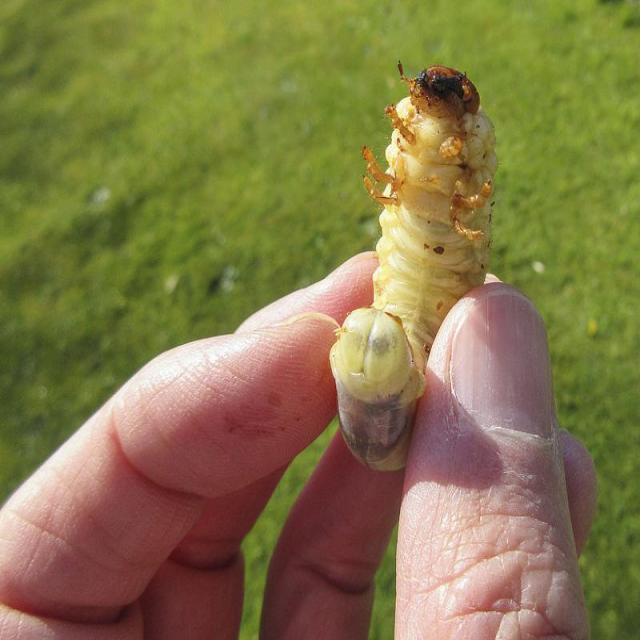Grub-Adult-: (302, 19, 526, 501)
